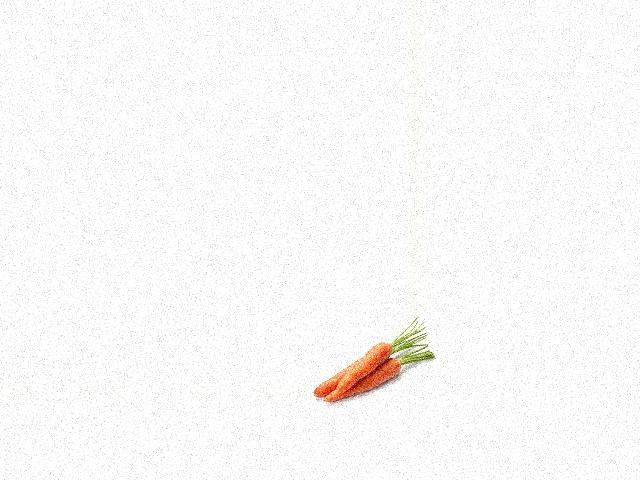carrot: (314, 357, 364, 397)
